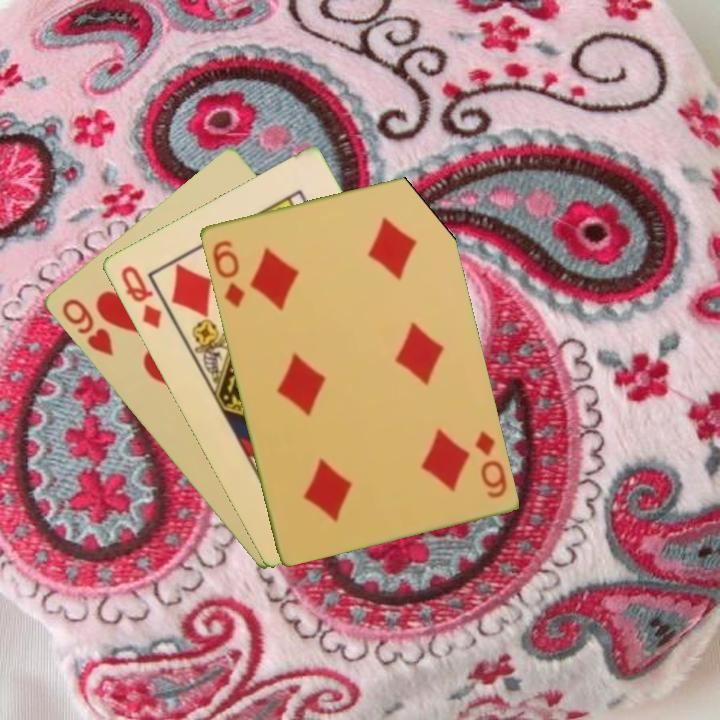6d: (208, 236, 248, 311), (471, 426, 510, 501)
9h: (57, 294, 116, 360)
Qd: (116, 261, 165, 332)
